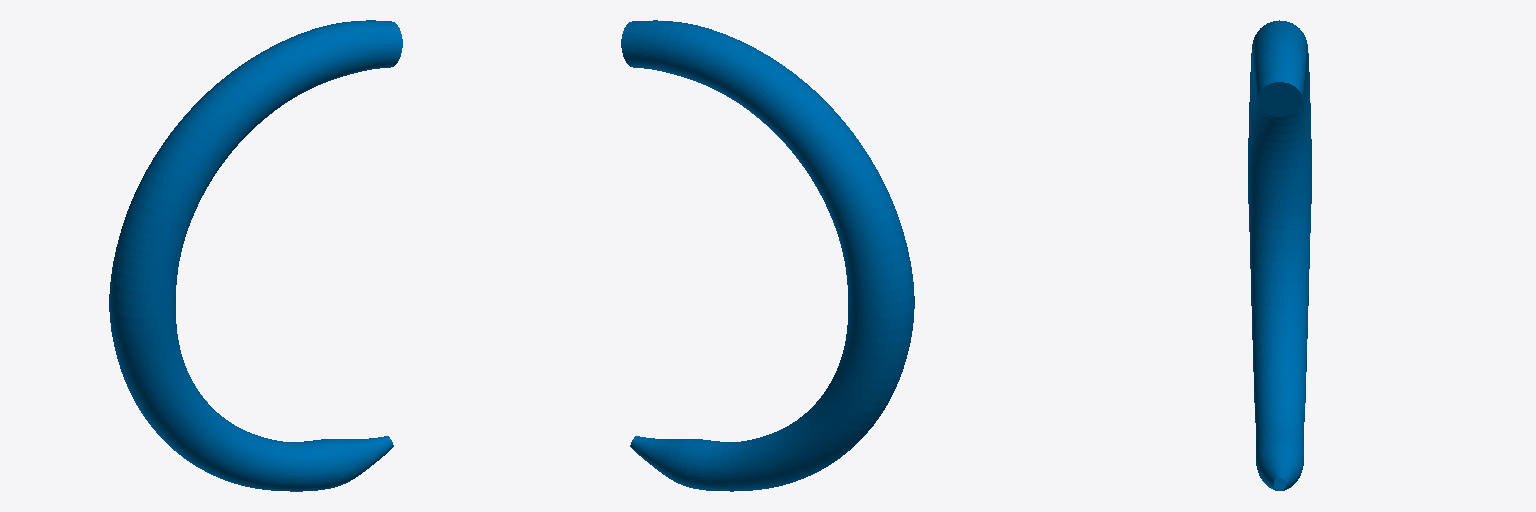
URDF robot description (target_object):
<?xml version="1.0" ?>
<!-- =================================================================================== -->
<!-- |    This document was autogenerated by xacro from target_object.urdf.xacro       | -->
<!-- |    EDITING THIS FILE BY HAND IS NOT RECOMMENDED                                 | -->
<!-- =================================================================================== -->
<robot name="target_object" xmlns:xacro="http://www.ros.org/wiki/xacro">
  <link name="world"/>
  <link name="right_t1_target_base_link">
    <inertial>
      <origin rpy="0 0 0" xyz="0 0 0"/>
      <mass value="0.0001"/>
      <inertia ixx="1e-09" ixy="0.0" ixz="0.0" iyy="1e-09" iyz="0.0" izz="1e-09"/>
    </inertial>
  </link>
  <link name="right_t1_target_y_link">
    <inertial>
      <origin rpy="0 0 0" xyz="0 0 0"/>
      <mass value="0.0001"/>
      <inertia ixx="1e-09" ixy="0.0" ixz="0.0" iyy="1e-09" iyz="0.0" izz="1e-09"/>
    </inertial>
  </link>
  <link name="right_t1_target_z_link">
    <inertial>
      <origin rpy="0 0 0" xyz="0 0 0"/>
      <mass value="0.001"/>
      <inertia ixx="1e-08" ixy="0.0" ixz="0.0" iyy="1e-08" iyz="0.0" izz="1e-08"/>
    </inertial>
  </link>
  <link name="right_t1_target_main_link">
    <visual>
      <origin rpy="0 0 0" xyz="0 0 0"/>
      <geometry>
        <!-- <box size="${sphere_radius} ${2*sphere_radius} ${2*sphere_radius}"/> -->
        <!-- <sphere radius="${sphere_radius}"/> -->
        <mesh filename="package://surgical_sim/models/meshes/stl/target/target.STL"/>
      </geometry>
    </visual>
    <collision>
      <origin rpy="0 0 0" xyz="0 0 0"/>
      <geometry>
        <!-- <box size="${2*sphere_radius} ${2*sphere_radius} ${2*sphere_radius}"/> -->
        <!-- <sphere radius="${sphere_radius}"/> -->
        <mesh filename="package://surgical_sim/models/meshes/stl/target/target.STL"/>
      </geometry>
    </collision>
    <inertial>
      <origin rpy="0 0 0" xyz="-0.0027704 -0.00060187 -1.79059999999631E-08"/>
      <mass value="0.000037311"/>
      <inertia ixx="2.99391393770835E-08" ixy="-1.99518680567514E-09" ixz="2.72589485952597E-15" iyy="8.27991394391801E-09" iyz="3.38023650313121E-14" izz="3.77117809466761E-08"/>
    </inertial>
  </link>
  <joint name="right_t1_target_base_joint" type="fixed">
    <origin rpy="0.0 0 0" xyz="0.0 0.0 0.0"/>
    <parent link="world"/>
    <child link="right_t1_target_base_link"/>
  </joint>
  <joint name="right_t1_target_x_joint" type="prismatic">
    <origin rpy="0.0 0 0" xyz="0.0 0.0 0.0"/>
    <axis xyz="1.0 0.0 0.0"/>
    <parent link="right_t1_target_base_link"/>
    <child link="right_t1_target_y_link"/>
    <limit effort="1000.0" lower="-0.02" upper="0.02" velocity=".4"/>
  </joint>
  <joint name="right_t1_target_y_joint" type="prismatic">
    <origin rpy="0.0 0 0" xyz="0.0 0.0 0.0"/>
    <axis xyz="0.0 1.0 0.0"/>
    <parent link="right_t1_target_y_link"/>
    <child link="right_t1_target_z_link"/>
    <limit effort="1000.0" lower="-0.02" upper="0.02" velocity=".4"/>
  </joint>
  <joint name="right_t1_target_z_joint" type="prismatic">
    <origin rpy="0.0 0 0" xyz="0.0 0.0 0.0"/>
    <axis xyz="0.0 0.0 1.0"/>
    <parent link="right_t1_target_z_link"/>
    <child link="right_t1_target_main_link"/>
    <limit effort="1000.0" lower="-0.01" upper="0.04" velocity=".4"/>
  </joint>
  <gazebo reference="world">
    <turnGravityOff>false</turnGravityOff>
    <mu1>1000</mu1>
    <mu2>1000</mu2>
    <!-- <kp>${kpCollision}</kp> -->
    <!-- <kd>${kdCollision}</kd> -->
    <selfCollide>true</selfCollide>
    <!-- <maxVel>0.01</maxVel> -->
    <!-- <minDepth>0.003</minDepth-->
  </gazebo>
  <gazebo reference="right_t1_target_base_link">
    <turnGravityOff>false</turnGravityOff>
    <mu1>1000</mu1>
    <mu2>1000</mu2>
    <!-- <kp>${kpCollision}</kp> -->
    <!-- <kd>${kdCollision}</kd> -->
    <selfCollide>true</selfCollide>
    <!-- <maxVel>0.01</maxVel> -->
    <!-- <minDepth>0.003</minDepth-->
  </gazebo>
  <gazebo reference="right_t1_target_y_link">
    <turnGravityOff>false</turnGravityOff>
    <mu1>1000</mu1>
    <mu2>1000</mu2>
    <!-- <kp>${kpCollision}</kp> -->
    <!-- <kd>${kdCollision}</kd> -->
    <selfCollide>true</selfCollide>
    <!-- <maxVel>0.01</maxVel> -->
    <!-- <minDepth>0.003</minDepth-->
  </gazebo>
  <gazebo reference="right_t1_target_z_link">
    <turnGravityOff>false</turnGravityOff>
    <mu1>1000</mu1>
    <mu2>1000</mu2>
    <!-- <kp>${kpCollision}</kp> -->
    <!-- <kd>${kdCollision}</kd> -->
    <selfCollide>true</selfCollide>
    <!-- <maxVel>0.01</maxVel> -->
    <!-- <minDepth>0.003</minDepth-->
  </gazebo>
  <gazebo reference="right_t1_target_main_link">
    <turnGravityOff>false</turnGravityOff>
    <mu1>1000</mu1>
    <mu2>1000</mu2>
    <!-- <kp>${kpCollision}</kp> -->
    <!-- <kd>${kdCollision}</kd> -->
    <selfCollide>true</selfCollide>
    <!-- <maxVel>0.01</maxVel> -->
    <!-- <minDepth>0.003</minDepth-->
  </gazebo>
  <gazebo reference="right_t1_base_joint">
    <!-- <implicitSpringDamper>0</implicitSpringDamper>
			<provideFeedback>1</provideFeedback> -->
  </gazebo>
  <gazebo reference="right_t1_x_joint">
    <!-- <implicitSpringDamper>0</implicitSpringDamper>
			<provideFeedback>1</provideFeedback> -->
  </gazebo>
  <gazebo reference="right_t1_y_joint">
    <!-- <implicitSpringDamper>0</implicitSpringDamper>
			<provideFeedback>1</provideFeedback> -->
  </gazebo>
  <gazebo reference="right_t1_z_joint">
    <!-- <implicitSpringDamper>0</implicitSpringDamper>
			<provideFeedback>1</provideFeedback> -->
  </gazebo>
  <gazebo>
    <plugin filename="libgazebo_ros_control.so" name="gazebo_ros_control">
      <robotNamespace>/right_t1_target</robotNamespace>
      <robotSimType>gazebo_ros_control/DefaultRobotHWSim</robotSimType>
      <legacyModeNS>true</legacyModeNS>
    </plugin>
  </gazebo>
</robot>

--- Facts derived from the render (not from the file) ---
The picture shows the robot from 3 angles, left to right: view 1: azimuth 30°, elevation 25°; view 2: azimuth 150°, elevation 25°; view 3: azimuth 270°, elevation 25°; orthographic projection.
Model target_object with 5 links and 4 joints (3 prismatic, 1 fixed), rooted at world, posed every joint at zero.
Links seen in each view (by area): view 1: right_t1_target_main_link; view 2: right_t1_target_main_link; view 3: right_t1_target_main_link.
Link boxes in pixels (x1,y1,x2,y2): right_t1_target_main_link: [109, 20, 402, 491]; right_t1_target_main_link: [621, 20, 914, 491]; right_t1_target_main_link: [1248, 20, 1311, 490].
Bounding box of the posed robot: 0.0183 × 0.0037 × 0.0285 m (x, y, z).
Meshes: 1 distinct files referenced, 1 mesh visuals loaded (1 binary STL).
